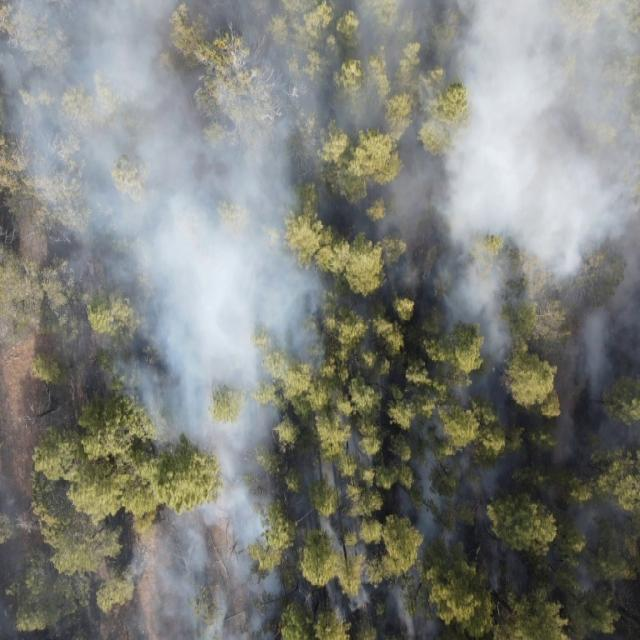fire: (269, 620, 283, 640), (355, 599, 369, 615)
smoke: (219, 0, 640, 640), (0, 0, 220, 352), (0, 499, 217, 640), (110, 353, 220, 456)
